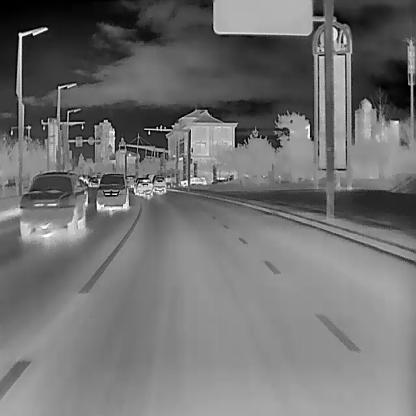car: (18, 170, 86, 239), (95, 172, 129, 211), (135, 176, 152, 195), (152, 175, 167, 193), (125, 174, 135, 188)
